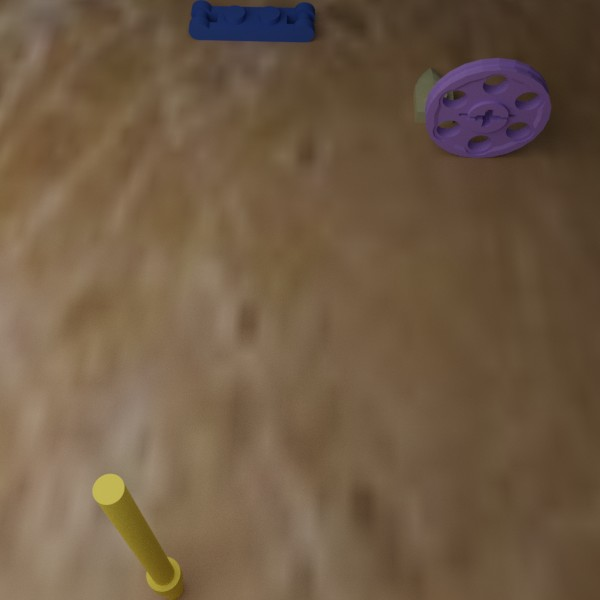lego: (425, 57, 551, 158), (92, 473, 183, 599), (188, 0, 315, 42), (413, 67, 454, 123)
